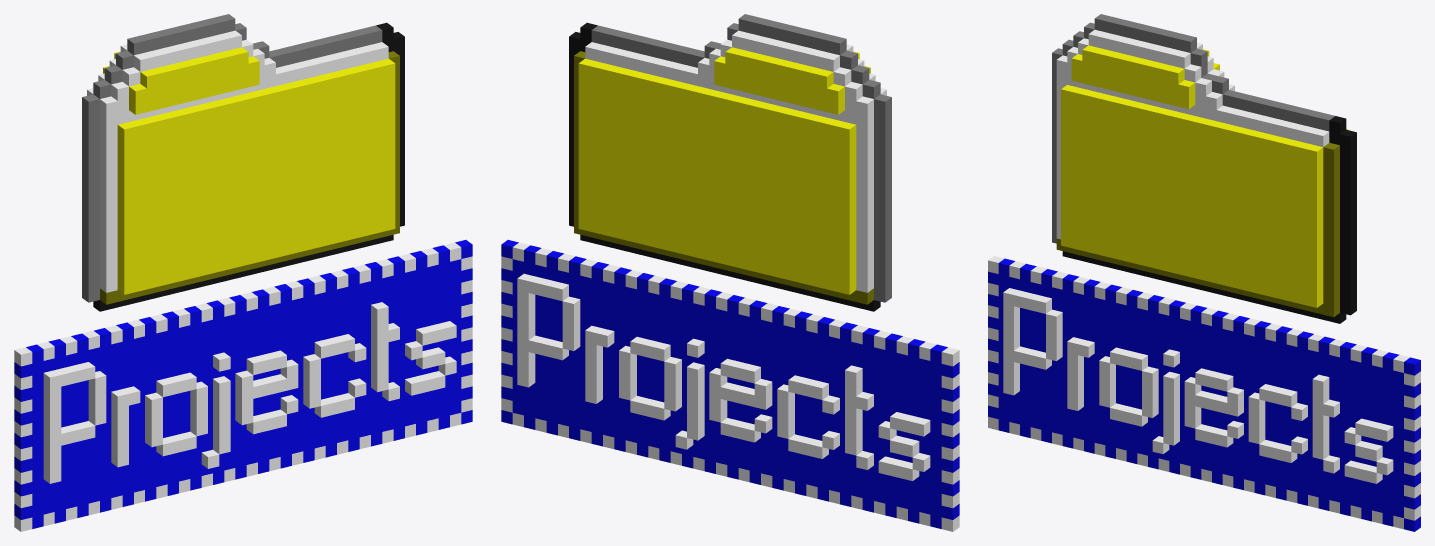
The model's file is folder.glb.
3 views of the same model, side by side, from view 1: azimuth 30°, elevation 25°; view 2: azimuth 150°, elevation 25°; view 3: azimuth 330°, elevation 25° (orthographic). The views are drawn at different scales.
Visible parts, largest first — view 1: Untitled.001; view 2: Untitled.001; view 3: Untitled.001.
Boxes of the visible parts, x1,y1,x2,y2 form: Untitled.001: (14,14,472,531); Untitled.001: (501,14,959,531); Untitled.001: (988,14,1420,531).
Size of the model in its own units: 4 by 3.9 by 0.5.
1 material, 1 textured.
